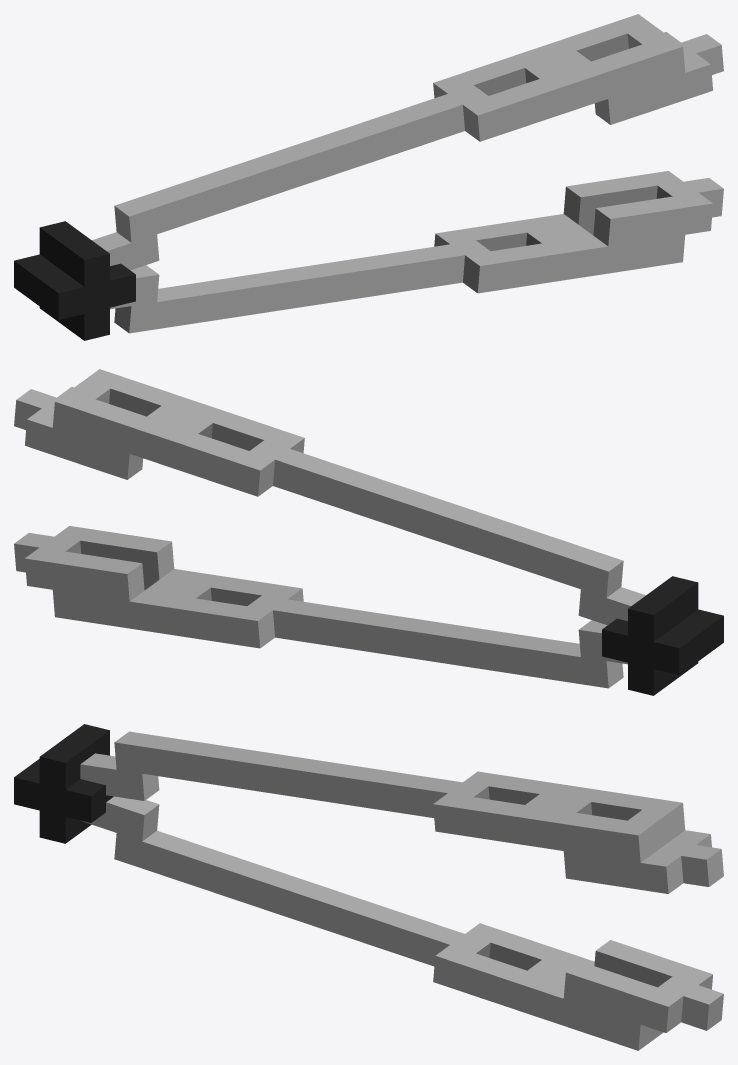
File: ServingTongs.fbx
The picture shows the model from 3 angles, top to bottom: view 1: azimuth 30°, elevation 25°; view 2: azimuth 150°, elevation 25°; view 3: azimuth 330°, elevation 25°; orthographic projection.
Visible parts, largest first — view 1: Tong_L, Tong_R, Tong_Hinge; view 2: Tong_L, Tong_R, Tong_Hinge; view 3: Tong_R, Tong_L, Tong_Hinge.
Part boxes in pixels (bbox=[...]): Tong_L: bbox=[92, 14, 723, 270]; Tong_R: bbox=[110, 171, 723, 333]; Tong_Hinge: bbox=[14, 221, 135, 340]; Tong_L: bbox=[14, 369, 645, 625]; Tong_R: bbox=[14, 526, 627, 688]; Tong_Hinge: bbox=[602, 576, 723, 695]; Tong_R: bbox=[81, 796, 723, 1050]; Tong_L: bbox=[80, 731, 723, 893]; Tong_Hinge: bbox=[14, 724, 113, 843].
Bounding box in the file's own units: 2.64 × 0.7994 × 0.3.
Materials: 1 (1 with a texture image).
